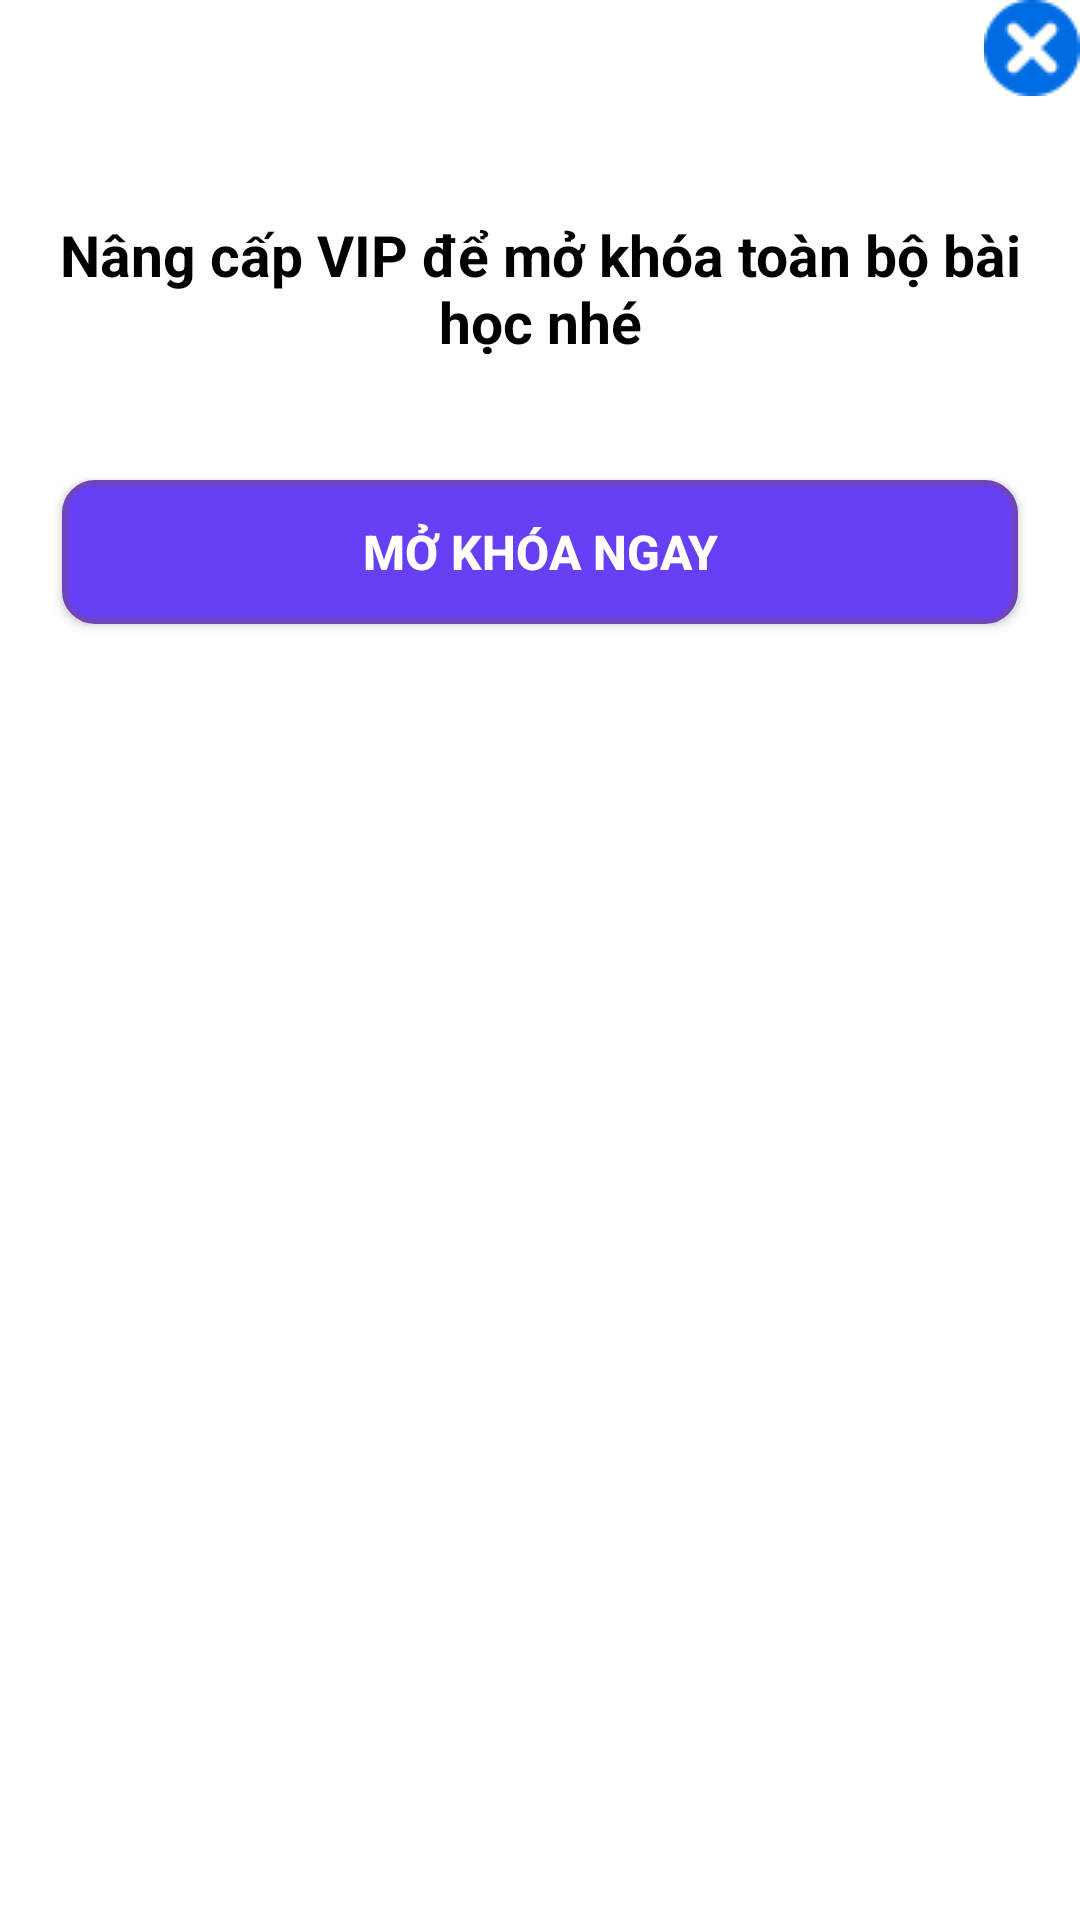

Where icons sit on this 1080*1920 app screen, as (x1, y1, x2, y2):
crossmark: (984, 0, 1080, 96)
